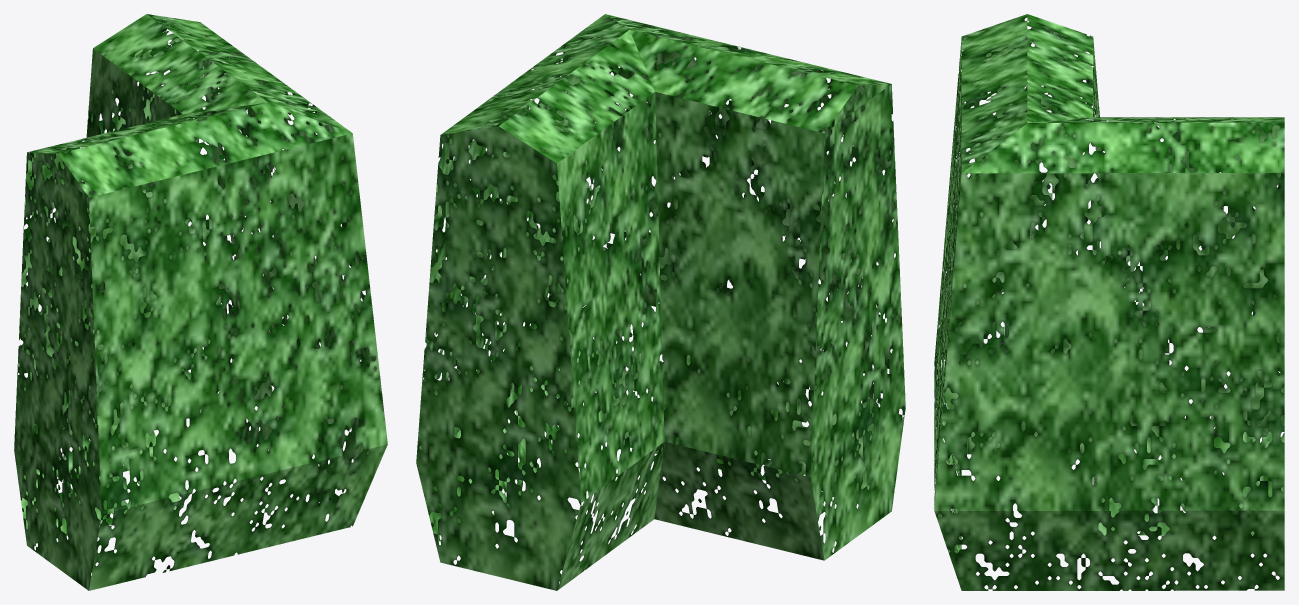
The model's file is bush_long_square_corner_spring.fbx.
3 views of the same model, side by side, from view 1: azimuth 30°, elevation 25°; view 2: azimuth 150°, elevation 25°; view 3: azimuth 270°, elevation 25° (orthographic). The views are drawn at different scales.
Visible parts, largest first — view 1: bush_long_square_corner_spring; view 2: bush_long_square_corner_spring; view 3: bush_long_square_corner_spring.
Part boxes in pixels (bbox=[...]): bush_long_square_corner_spring: bbox=[14, 14, 387, 590]; bush_long_square_corner_spring: bbox=[416, 14, 905, 590]; bush_long_square_corner_spring: bbox=[934, 14, 1284, 590].
Size of the model in its own units: 136 by 188 by 135.
Materials: 1 (1 with a texture image).
